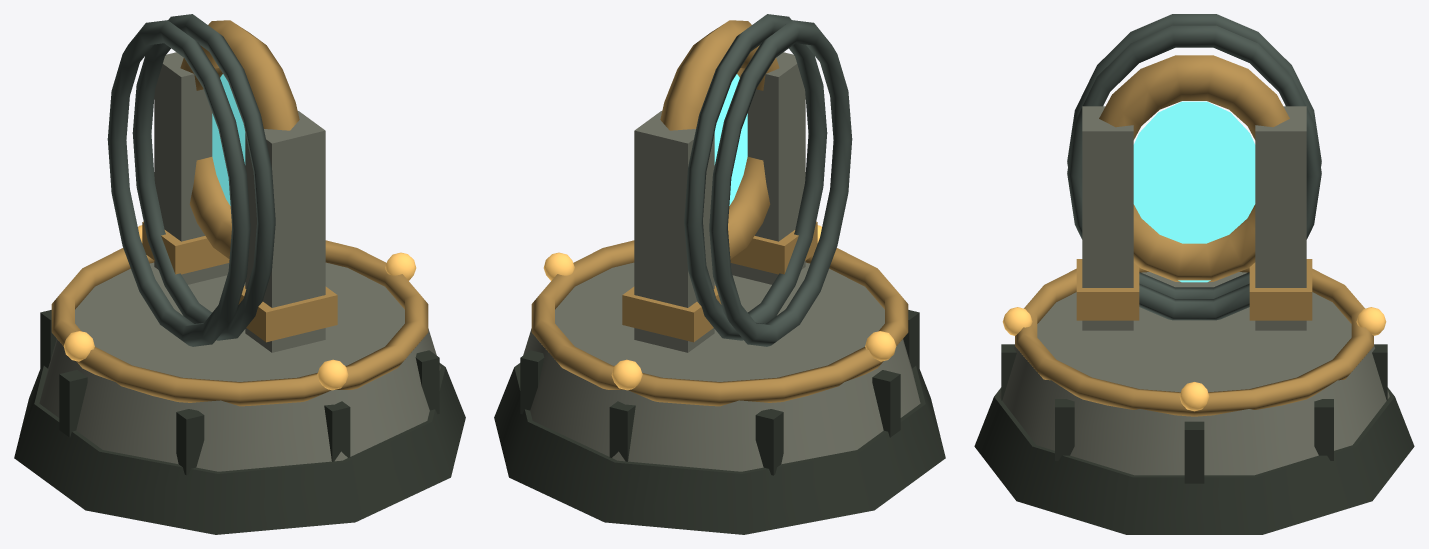
The model's file is tower_portal_portalSluice.glb.
The picture shows the model from 3 angles, left to right: view 1: azimuth 30°, elevation 25°; view 2: azimuth 150°, elevation 25°; view 3: azimuth 270°, elevation 25°; orthographic projection. The views are drawn at different scales.
Visible parts, largest first — view 1: stone_1, foot_0, time_gate_22, rim_2, time_gate_21, arch_pillar_15, arch_pillar_17, arch_19, band_16, band_18, mortar_6, mortar_7 (+7 smaller); view 2: stone_1, foot_0, time_gate_22, rim_2, time_gate_21, arch_pillar_17, arch_pillar_15, arch_19, band_18, band_16, mortar_8, mortar_7 (+7 smaller); view 3: stone_1, foot_0, portal_surface_20, arch_19, rim_2, time_gate_21, arch_pillar_15, arch_pillar_17, time_gate_22, band_16, band_18, mortar_3 (+7 smaller).
Boxes of the visible parts, x1,y1,x2,y2 form: stone_1: (39, 262, 440, 471); foot_0: (14, 363, 465, 534); time_gate_22: (107, 20, 250, 346); rim_2: (51, 240, 428, 406); time_gate_21: (132, 14, 275, 340); arch_pillar_15: (245, 111, 325, 352); arch_pillar_17: (154, 52, 229, 284); arch_19: (180, 20, 299, 259); band_16: (238, 285, 337, 342); band_18: (142, 221, 229, 274); mortar_6: (176, 409, 204, 475); mortar_7: (59, 370, 87, 437); stone_1: (519, 262, 920, 471); foot_0: (494, 363, 945, 534); time_gate_22: (709, 20, 852, 346); rim_2: (531, 240, 908, 406); time_gate_21: (684, 14, 827, 340); arch_pillar_17: (634, 111, 714, 352); arch_pillar_15: (730, 52, 805, 284); arch_19: (660, 20, 779, 259); band_18: (622, 285, 721, 342); band_16: (730, 221, 817, 274); mortar_8: (755, 409, 783, 475); mortar_7: (872, 370, 900, 437); stone_1: (999, 272, 1389, 475); foot_0: (974, 387, 1414, 534); portal_surface_20: (1133, 101, 1255, 282); arch_19: (1099, 55, 1289, 281); rim_2: (1015, 267, 1373, 416); time_gate_21: (1067, 25, 1321, 320); arch_pillar_15: (1082, 106, 1133, 330); arch_pillar_17: (1255, 106, 1306, 330); time_gate_22: (1067, 14, 1321, 298); band_16: (1076, 259, 1139, 320); band_18: (1249, 259, 1312, 320); mortar_3: (1184, 421, 1204, 483).
Bounding box in the file's own units: 0.5326 × 0.5674 × 0.56.
